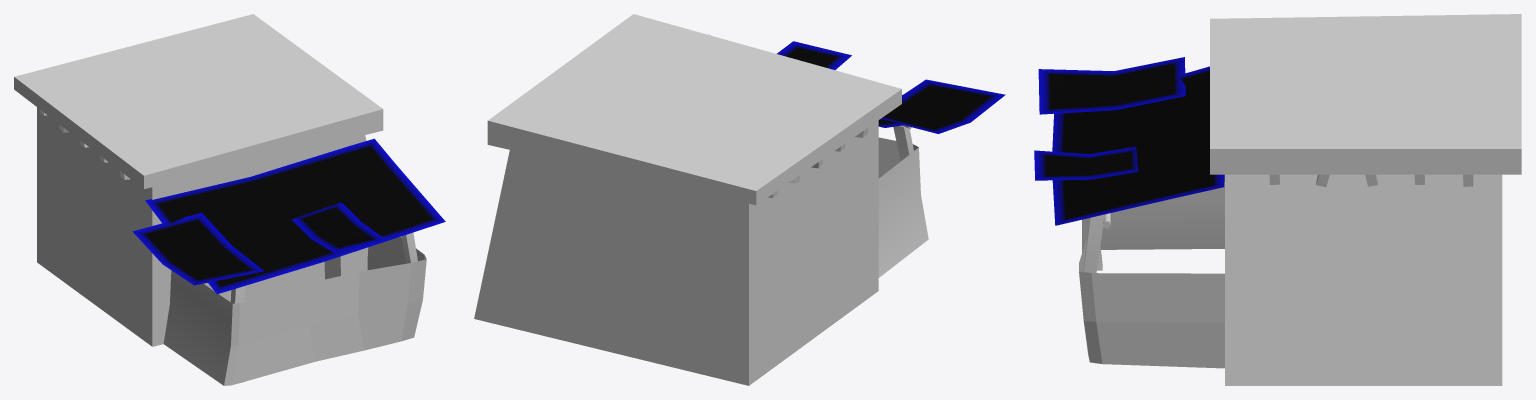
Rendered from V_building_Stair_2.FBX.
3 renders of one model, left to right at view 1: azimuth 30°, elevation 25°; view 2: azimuth 150°, elevation 25°; view 3: azimuth 270°, elevation 25°, orthographic. The views are drawn at different scales.
Parts seen in each view (by area): view 1: Box050, Plane029, Plane017, Box052; view 2: Box050, Plane029, Plane017, Box051; view 3: Box050, Plane029, Plane017, Box052.
Boxes of the visible parts, x1,y1,x2,y2 form: Box050: (14,14,383,346); Plane029: (132,138,445,294); Plane017: (163,236,426,385); Box052: (401,232,417,263); Box050: (474,14,901,385); Plane029: (708,34,1005,133); Plane017: (878,137,928,277); Box051: (893,126,913,160); Box050: (1210,14,1521,385); Plane029: (1034,57,1224,225); Plane017: (1079,175,1224,368); Box052: (1083,214,1104,272).
Bounding box in the file's own units: 1104 × 720 × 1379.
